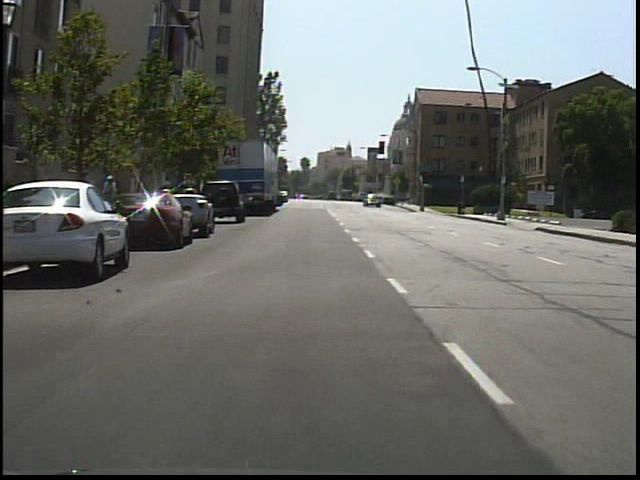person: (74, 167, 98, 227), (102, 171, 125, 225)
